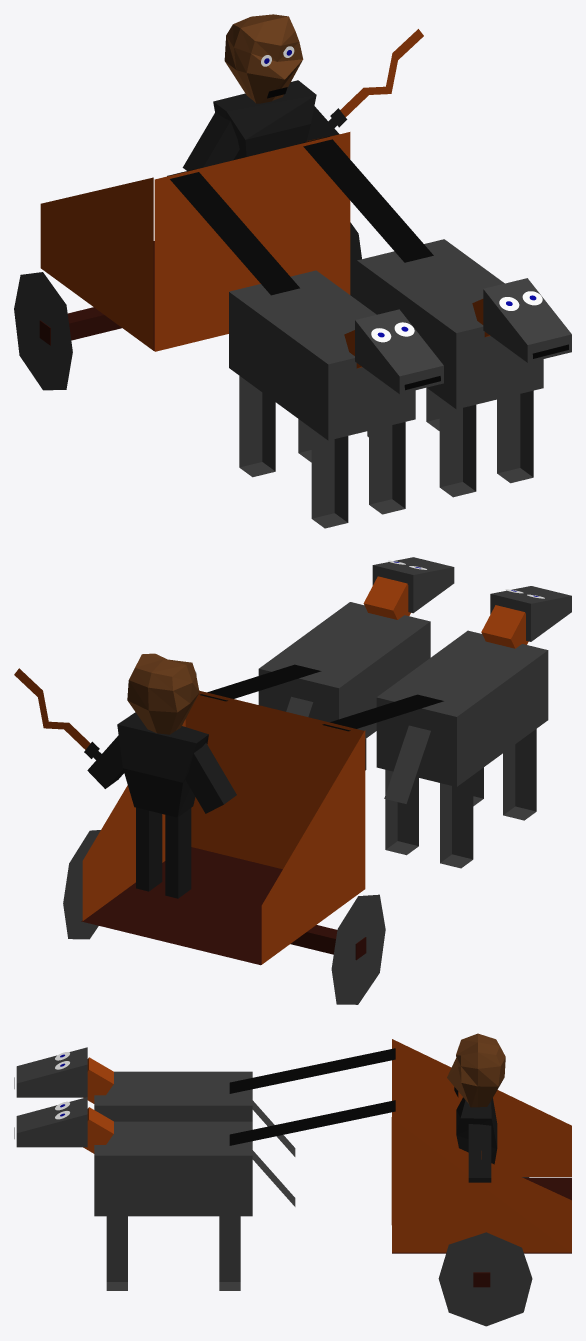
Rendered from heavychariot2f.obj.
3 renders of one model, top to bottom at view 1: azimuth 30°, elevation 25°; view 2: azimuth 150°, elevation 25°; view 3: azimuth 270°, elevation 25°, orthographic. The views are drawn at different scales.
Visible parts, largest first — view 1: Plane.005_Plane.006, Cube.015_Cube.017, Cube.006_Cube.009, Plane.003, Plane.007_Plane.008, Cube, Cube.001, Cube.021_Cube.023, Cube.014_Cube.016, Plane.013_Plane.014, Plane.012_Plane.013, Cube.012_Cube.014 (+7 smaller); view 2: Plane.005_Plane.006, Cube.015_Cube.017, Cube.006_Cube.009, Plane.002, Plane.003, Cube.001, Plane.004, Cube, Plane.007_Plane.008, Cube.016_Cube.018, Cube.019_Cube.021, Cube.014_Cube.016 (+14 smaller); view 3: Plane.004, Cube.006_Cube.009, Plane.003, Cube.015_Cube.017, Plane.006_Plane.007, Cube, Cube.014_Cube.016, Cube.021_Cube.023, Plane.012_Plane.013, Plane.013_Plane.014, Cube.010_Cube.012, Cube.011_Cube.013 (+6 smaller).
Boxes of the visible parts, <box> form: Plane.005_Plane.006: <box>154,132,350,351</box>; Cube.015_Cube.017: <box>229,270,415,440</box>; Cube.006_Cube.009: <box>357,239,543,409</box>; Plane.003: <box>40,177,153,350</box>; Plane.007_Plane.008: <box>14,272,72,390</box>; Cube: <box>224,14,303,103</box>; Cube.001: <box>213,80,316,160</box>; Cube.021_Cube.023: <box>355,309,443,394</box>; Cube.014_Cube.016: <box>483,278,571,362</box>; Plane.013_Plane.014: <box>301,136,433,262</box>; Plane.012_Plane.013: <box>167,169,299,295</box>; Cube.012_Cube.014: <box>439,397,476,497</box>; Plane.005_Plane.006: <box>185,690,364,869</box>; Cube.015_Cube.017: <box>376,630,548,786</box>; Cube.006_Cube.009: <box>258,602,430,738</box>; Plane.002: <box>81,847,282,965</box>; Plane.003: <box>261,730,365,964</box>; Cube.001: <box>117,712,208,817</box>; Plane.004: <box>82,719,185,920</box>; Cube: <box>127,653,199,734</box>; Plane.007_Plane.008: <box>331,894,385,1004</box>; Cube.016_Cube.018: <box>440,775,473,868</box>; Cube.019_Cube.021: <box>503,729,536,820</box>; Cube.014_Cube.016: <box>372,557,454,613</box>; Plane.004: <box>391,1117,571,1252</box>; Cube.006_Cube.009: <box>94,1121,252,1216</box>; Plane.003: <box>392,1039,571,1176</box>; Cube.015_Cube.017: <box>94,1071,252,1121</box>; Plane.006_Plane.007: <box>438,1232,532,1326</box>; Cube: <box>447,1033,505,1107</box>; Cube.014_Cube.016: <box>16,1097,87,1147</box>; Cube.021_Cube.023: <box>16,1047,87,1097</box>; Plane.012_Plane.013: <box>229,1048,395,1093</box>; Plane.013_Plane.014: <box>229,1100,395,1145</box>; Cube.010_Cube.012: <box>219,1216,240,1290</box>; Cube.011_Cube.013: <box>106,1216,127,1290</box>.
Bounding box in the file's own units: 9.3 × 7.5 × 14.9.
